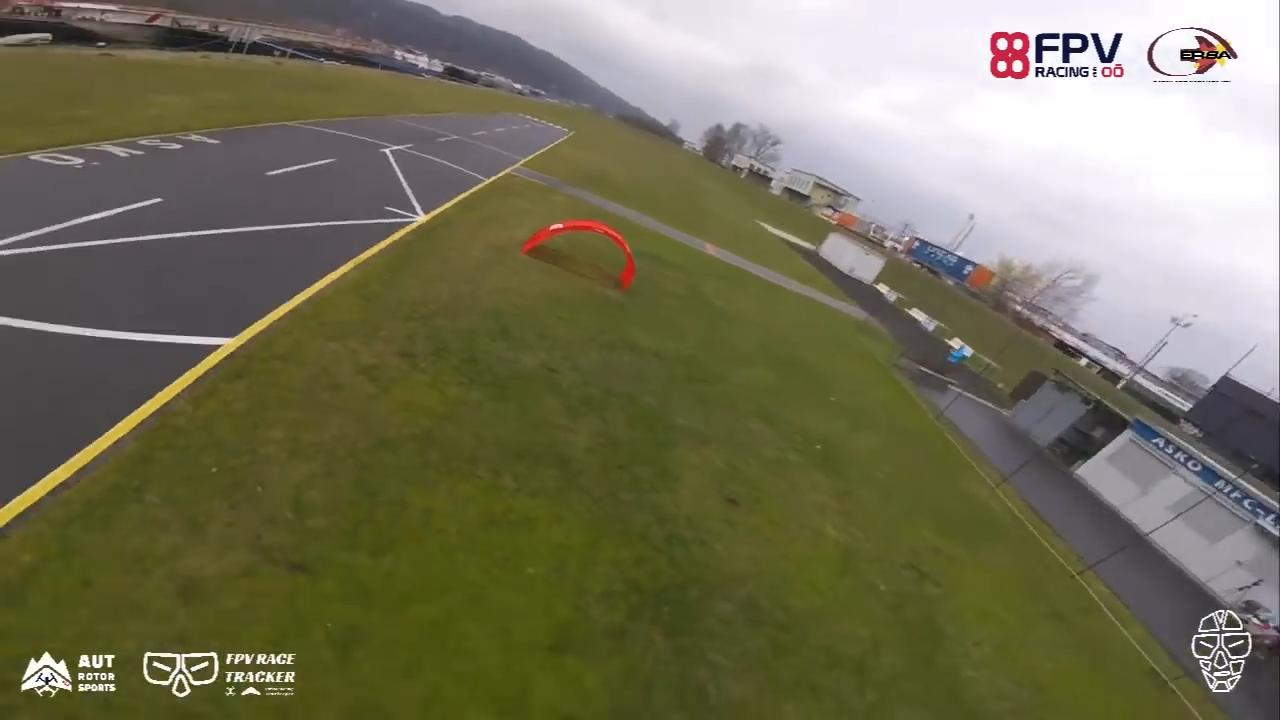gate: (518, 214, 636, 292)
